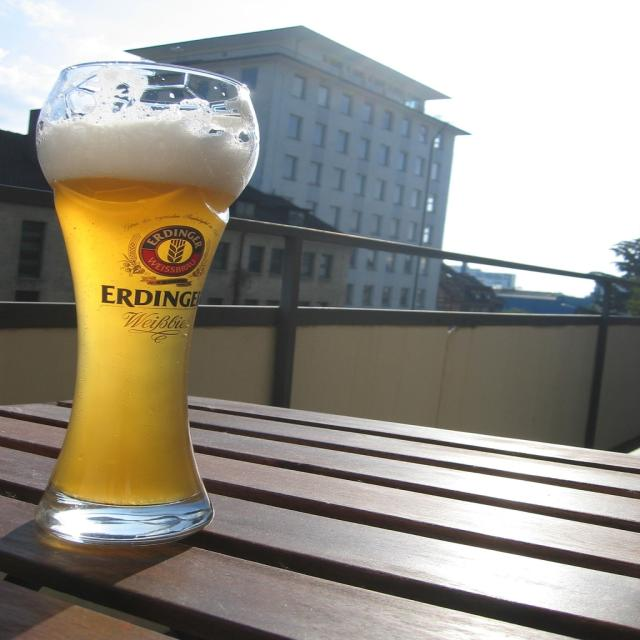erdinger: (99, 211, 225, 313)
